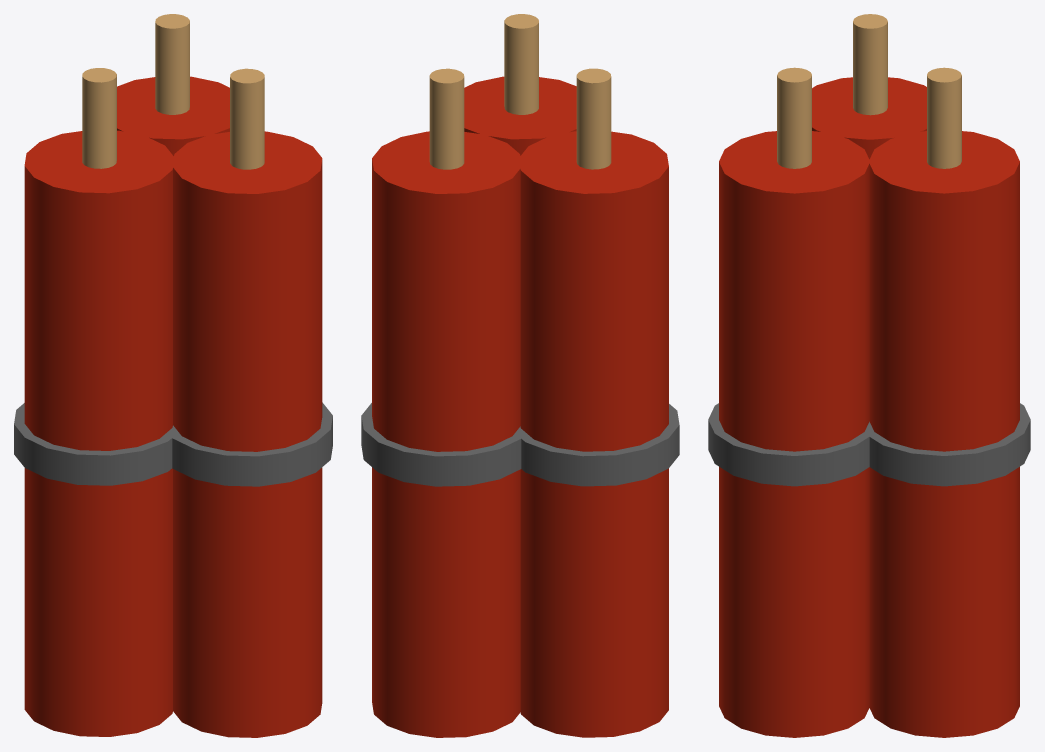
File: Dynamite2.fbx
3 views of the same model, side by side, from view 1: azimuth 30°, elevation 25°; view 2: azimuth 150°, elevation 25°; view 3: azimuth 270°, elevation 25° (orthographic).
Visible parts, largest first — view 1: Cylinder.032; view 2: Cylinder.032; view 3: Cylinder.032.
Part boxes in pixels (x1,y1,x2,y2): Cylinder.032: (14, 14, 332, 737); Cylinder.032: (361, 14, 679, 737); Cylinder.032: (708, 14, 1030, 737).
Size of the model in its own units: 0.1662 by 0.1787 by 0.3857.
